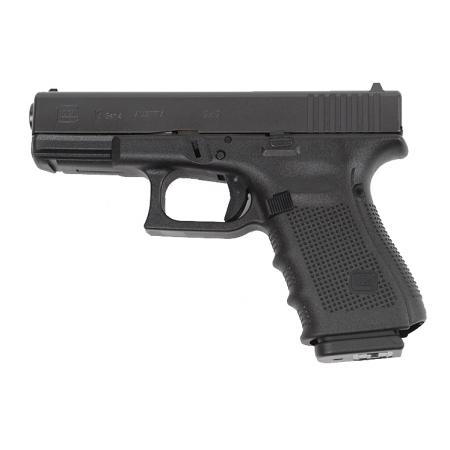Arma Real: (25, 83, 430, 362)
